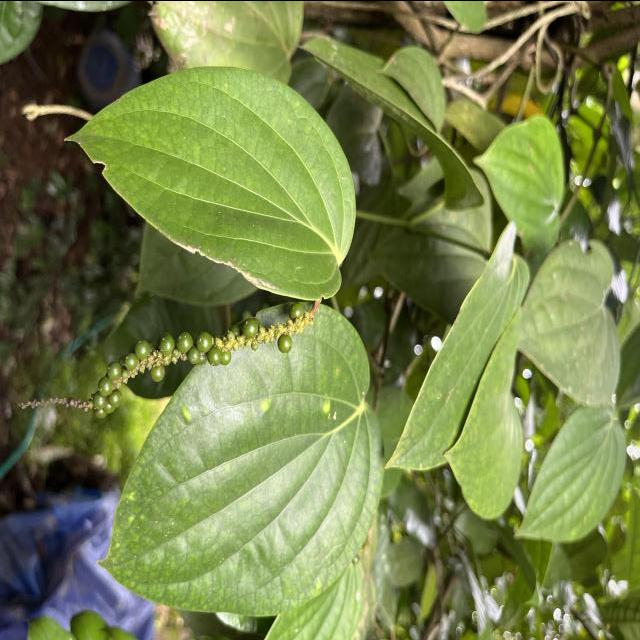Piper nigrum: (92, 300, 386, 618), (62, 62, 358, 300)
